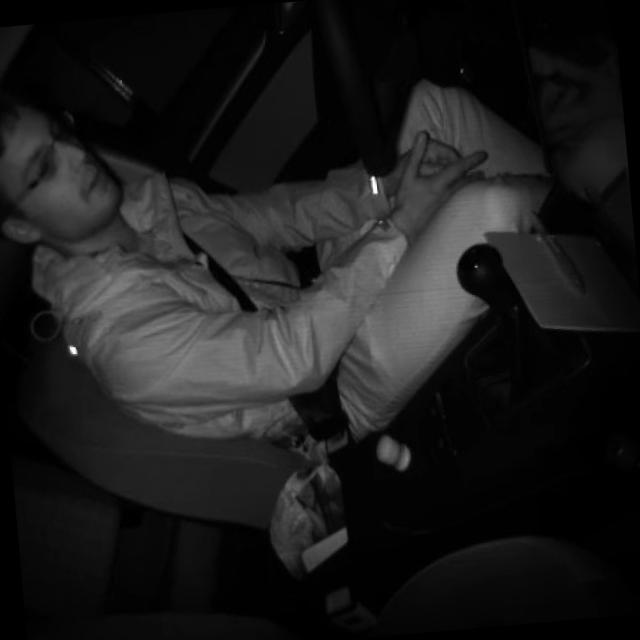pen: (526, 195, 590, 304)
